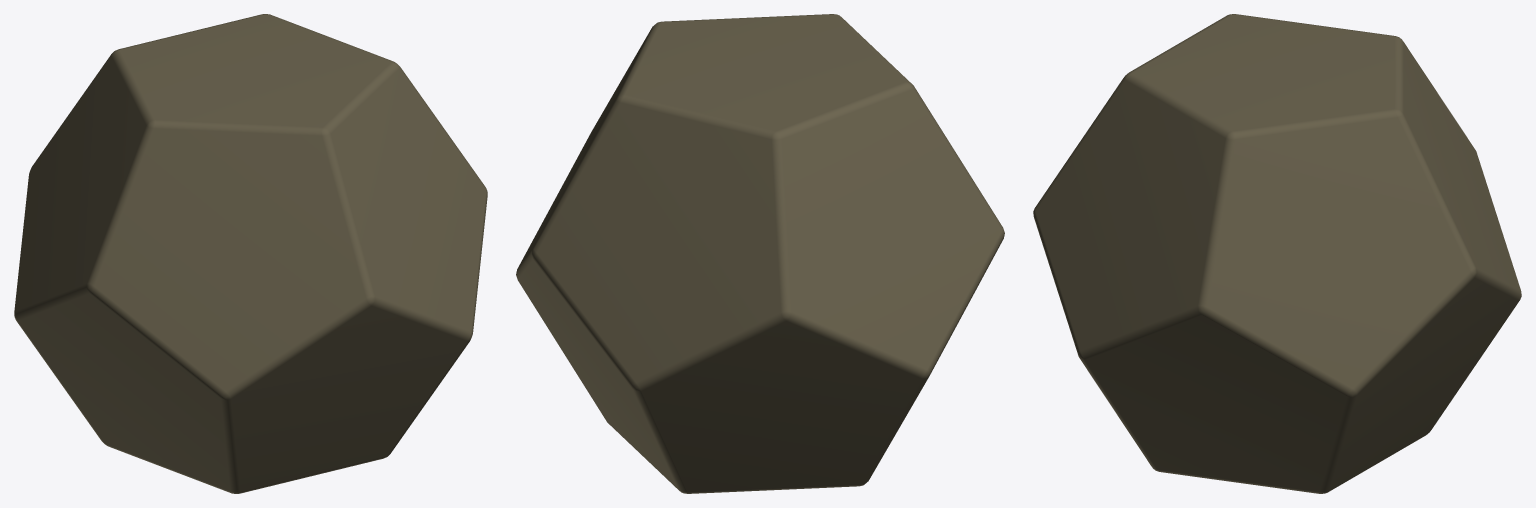
File: SM_Pentaobject_01.fbx
3 renders of one model, left to right at view 1: azimuth 30°, elevation 25°; view 2: azimuth 150°, elevation 25°; view 3: azimuth 270°, elevation 25°, orthographic. The views are drawn at different scales.
Parts seen in each view (by area): view 1: SM_Pentaobject_01; view 2: SM_Pentaobject_01; view 3: SM_Pentaobject_01.
Boxes of the visible parts, x1=… form: SM_Pentaobject_01: x1=14, y1=14, x2=487, y2=493; SM_Pentaobject_01: x1=516, y1=14, x2=1004, y2=493; SM_Pentaobject_01: x1=1033, y1=14, x2=1521, y2=493.
Size of the model in its own units: 19.18 by 16.44 by 20.09.
